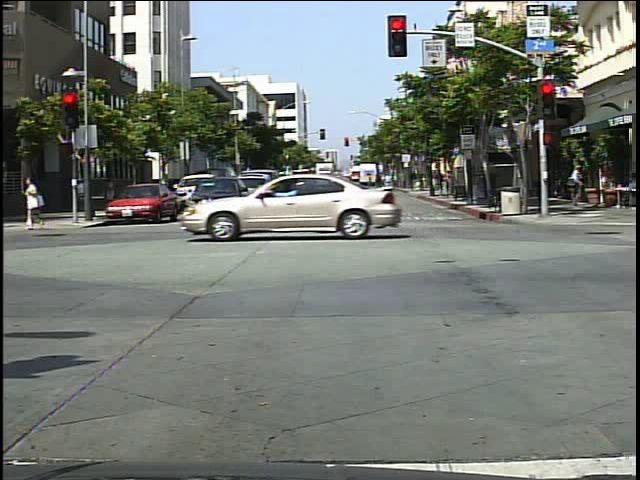person: (20, 172, 51, 236), (565, 161, 588, 212)
